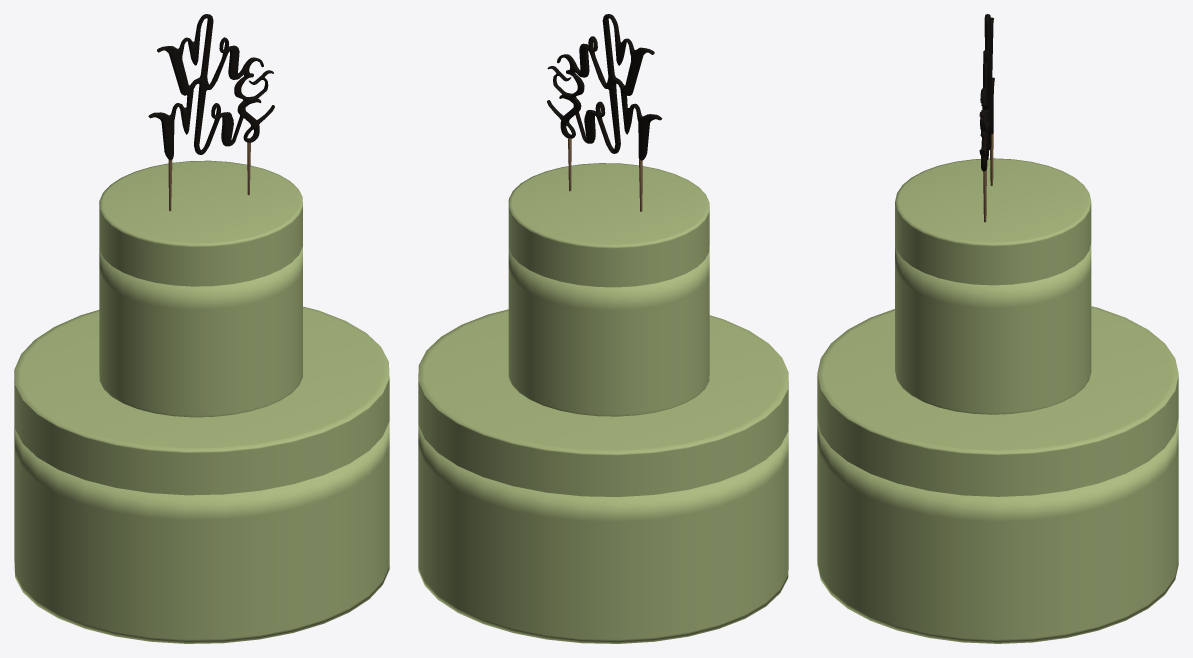
Rendered from 2-tier-pistage-none-mrms.glb.
The picture shows the model from 3 angles, left to right: view 1: azimuth 30°, elevation 25°; view 2: azimuth 150°, elevation 25°; view 3: azimuth 270°, elevation 25°; orthographic projection.
Visible parts, largest first — view 1: Cylinder.023, Cylinder.013, mrms; view 2: Cylinder.023, Cylinder.013, mrms; view 3: Cylinder.023, Cylinder.013, mrms.
Boxes of the visible parts, x1=… form: Cylinder.023: x1=14, y1=306, x2=389, y2=643; Cylinder.013: x1=99, y1=160, x2=302, y2=417; mrms: x1=148, y1=14, x2=274, y2=211; Cylinder.023: x1=418, y1=309, x2=788, y2=643; Cylinder.013: x1=508, y1=163, x2=709, y2=416; mrms: x1=547, y1=14, x2=662, y2=211; Cylinder.023: x1=817, y1=306, x2=1178, y2=643; Cylinder.013: x1=895, y1=158, x2=1091, y2=414; mrms: x1=979, y1=14, x2=994, y2=222.
Bounding box in the file's own units: 3.4 × 5.48 × 3.27.
